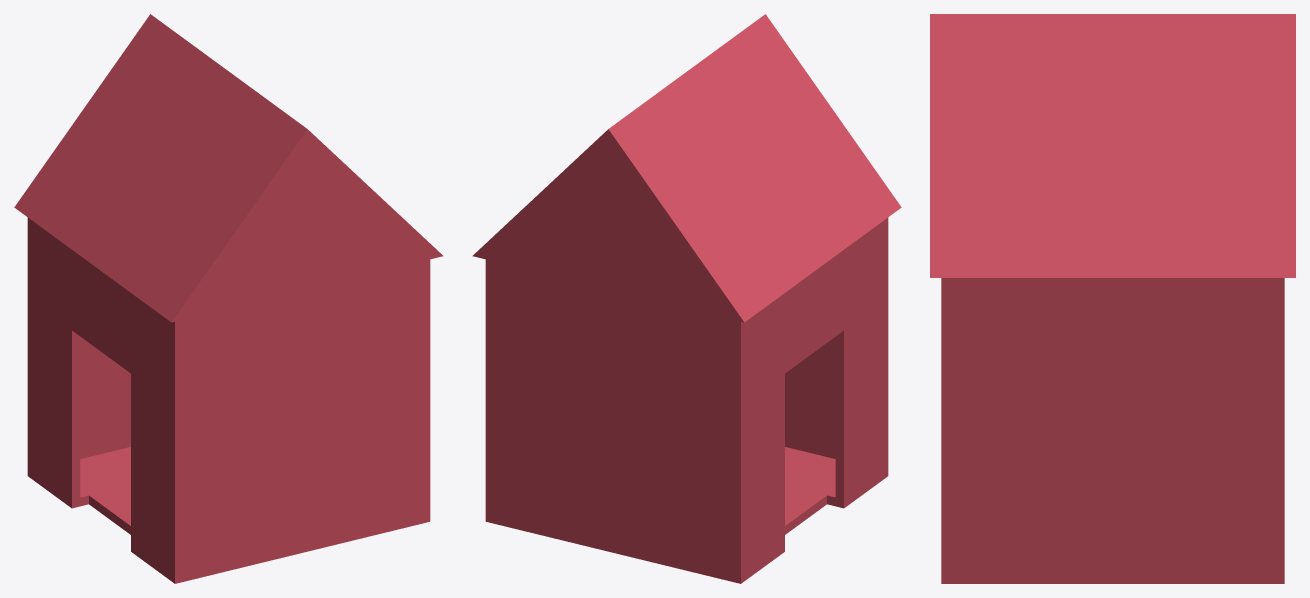
Rendered from home.glb.
The picture shows the model from 3 angles, left to right: view 1: azimuth 30°, elevation 25°; view 2: azimuth 150°, elevation 25°; view 3: azimuth 270°, elevation 25°; orthographic projection. The views are drawn at different scales.
Visible parts, largest first — view 1: Mesh_Mesh_head_geo.001_lambert2SG.001; view 2: Mesh_Mesh_head_geo.001_lambert2SG.001; view 3: Mesh_Mesh_head_geo.001_lambert2SG.001.
Part boxes in pixels (left/top/right/bottom): Mesh_Mesh_head_geo.001_lambert2SG.001: left=14, top=14, right=443, bottom=583; Mesh_Mesh_head_geo.001_lambert2SG.001: left=472, top=14, right=901, bottom=583; Mesh_Mesh_head_geo.001_lambert2SG.001: left=930, top=14, right=1295, bottom=583.
Bounding box in the file's own units: 0.032 × 0.048 × 0.032.
